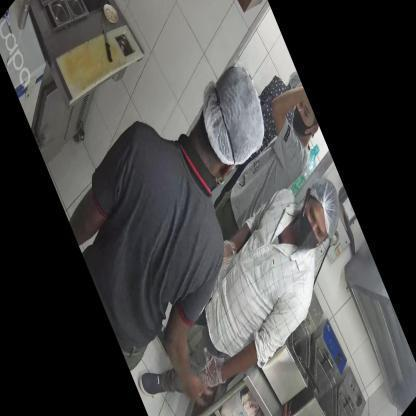no_apron: (208, 191, 313, 353)
